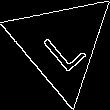L_NW: (34, 15, 88, 73)
